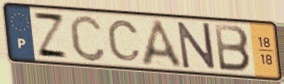A: (139, 18, 187, 71)
B: (212, 22, 253, 74)
C: (68, 13, 108, 64), (105, 19, 143, 63)
N: (175, 21, 218, 71)
Z: (31, 11, 71, 61)
